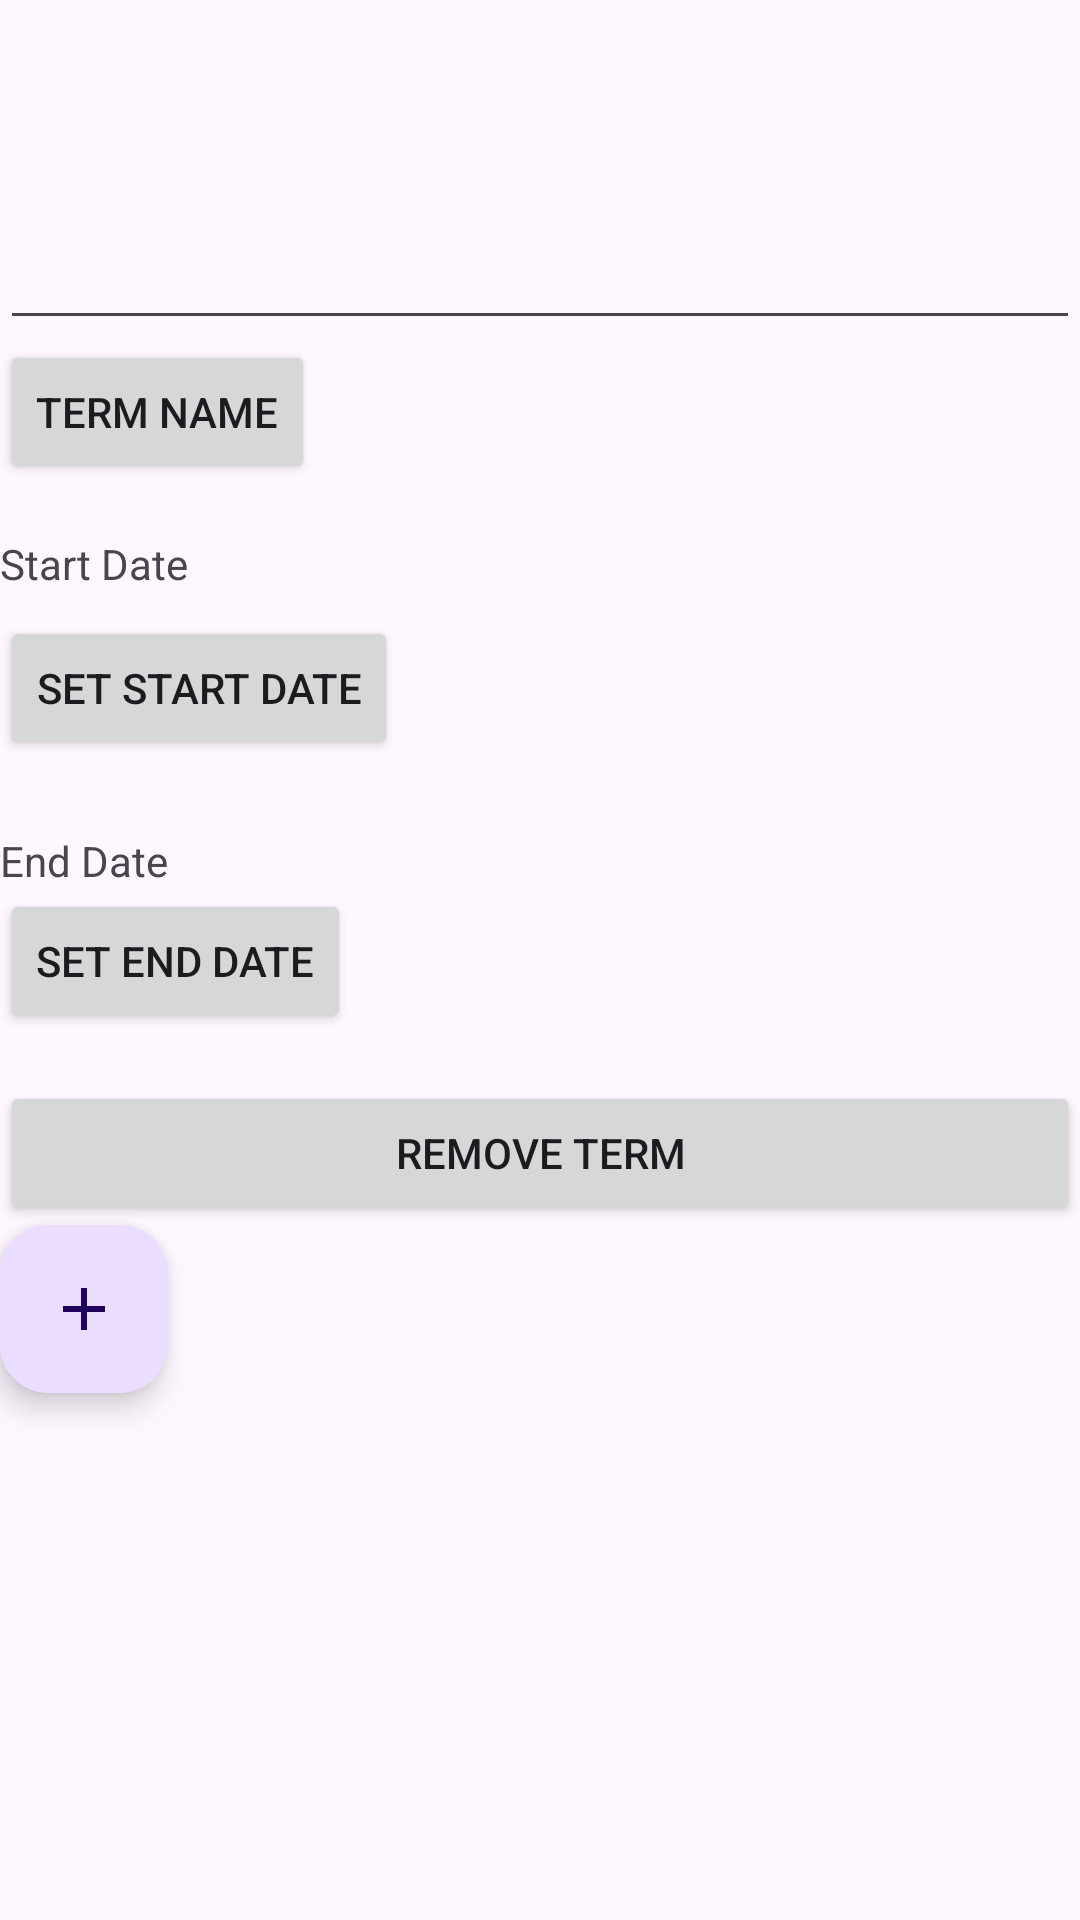

Screen size 1080w x 1920h. Icon name, then its center in pixels as [x,y]:
add: [84,1309]
